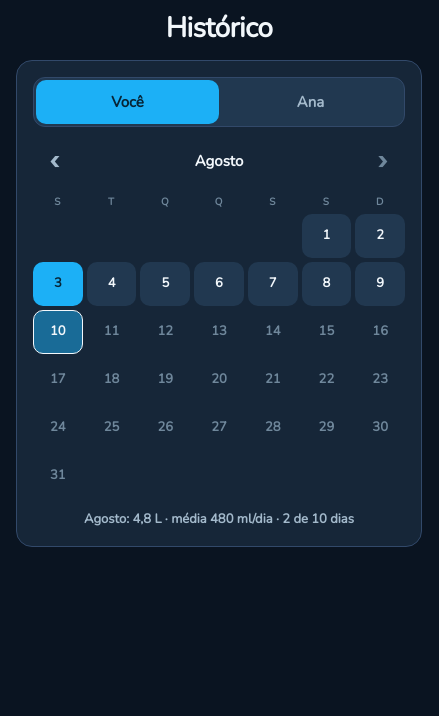
Test: Historico › steps back a month and clears the selected day
Click the button named "segunda, 3 de agosto · 3 L" at x=58, y=284, box [33,262,83,306]
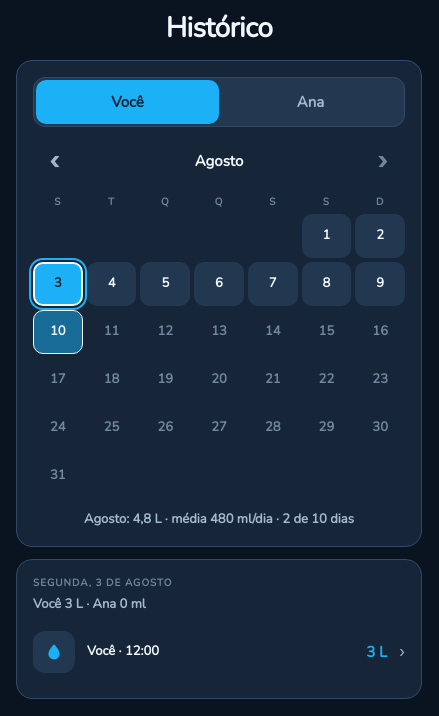
Check: the text "Você 3 L · Ana 0 ml" is shown, box [33,594,146,612]
Click the button named "Mês anterior" at x=55, y=161, box [33,139,77,183]
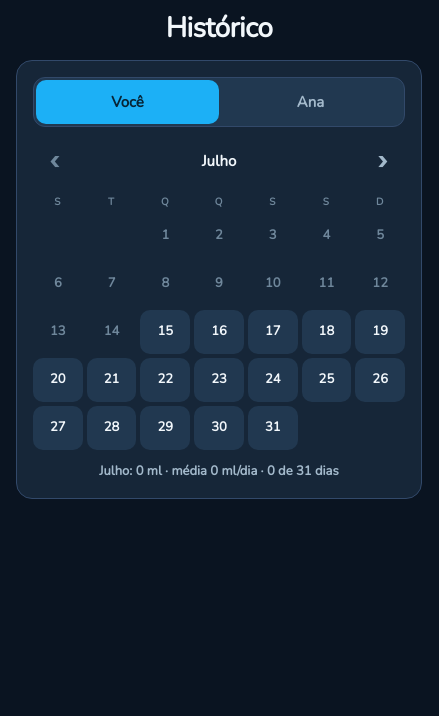
Check: the text "Julho" is shown, box [202,150,236,172]
Check: the text "Você 3 L · Ana 0 ml" is gone
Check: the button named "Próximo mês" is enabled, box [361,139,405,183]
